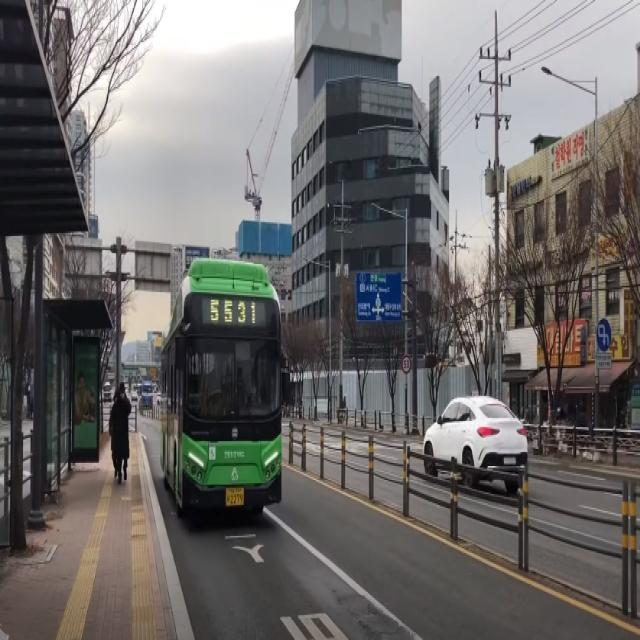bus-number: (210, 297, 256, 326)
